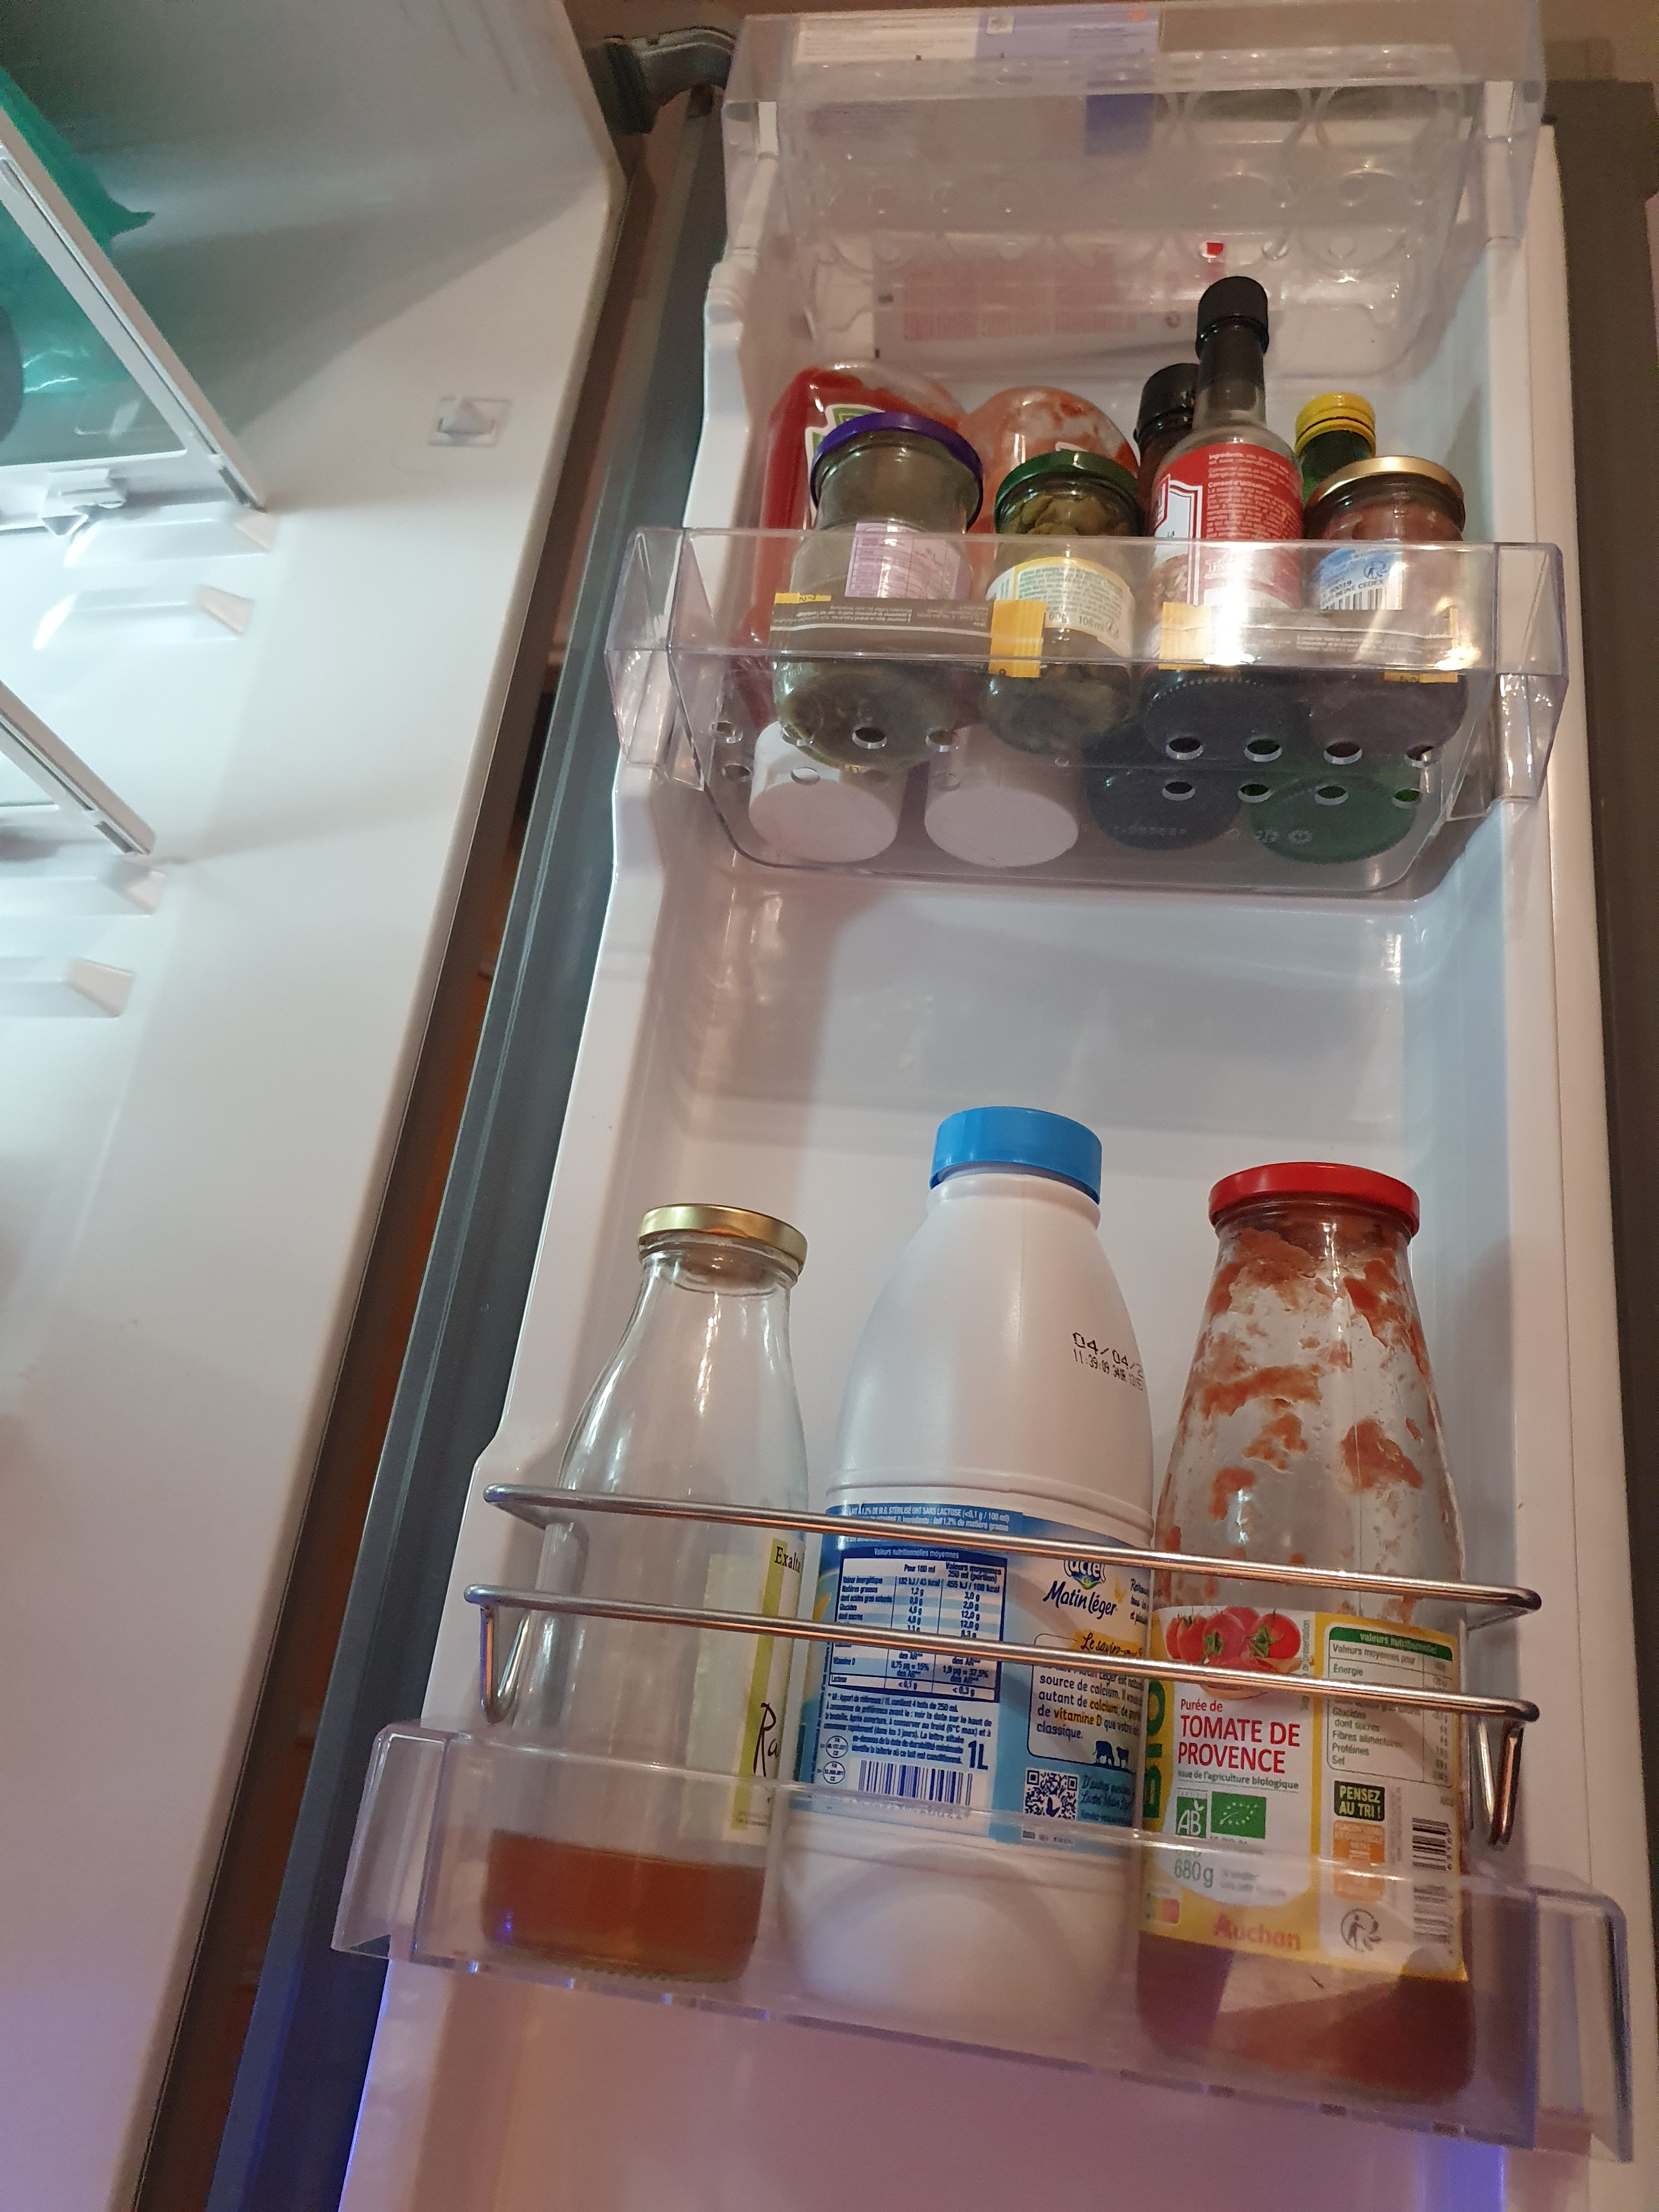bottle: (1141, 1170, 1481, 2101), (488, 1207, 812, 1982)
milk: (784, 1099, 1126, 2026)
